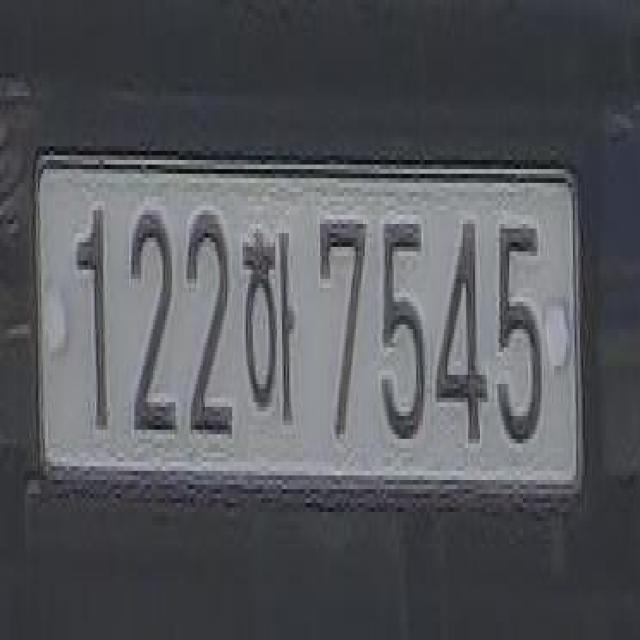illegal_plate: (29, 139, 589, 522)
